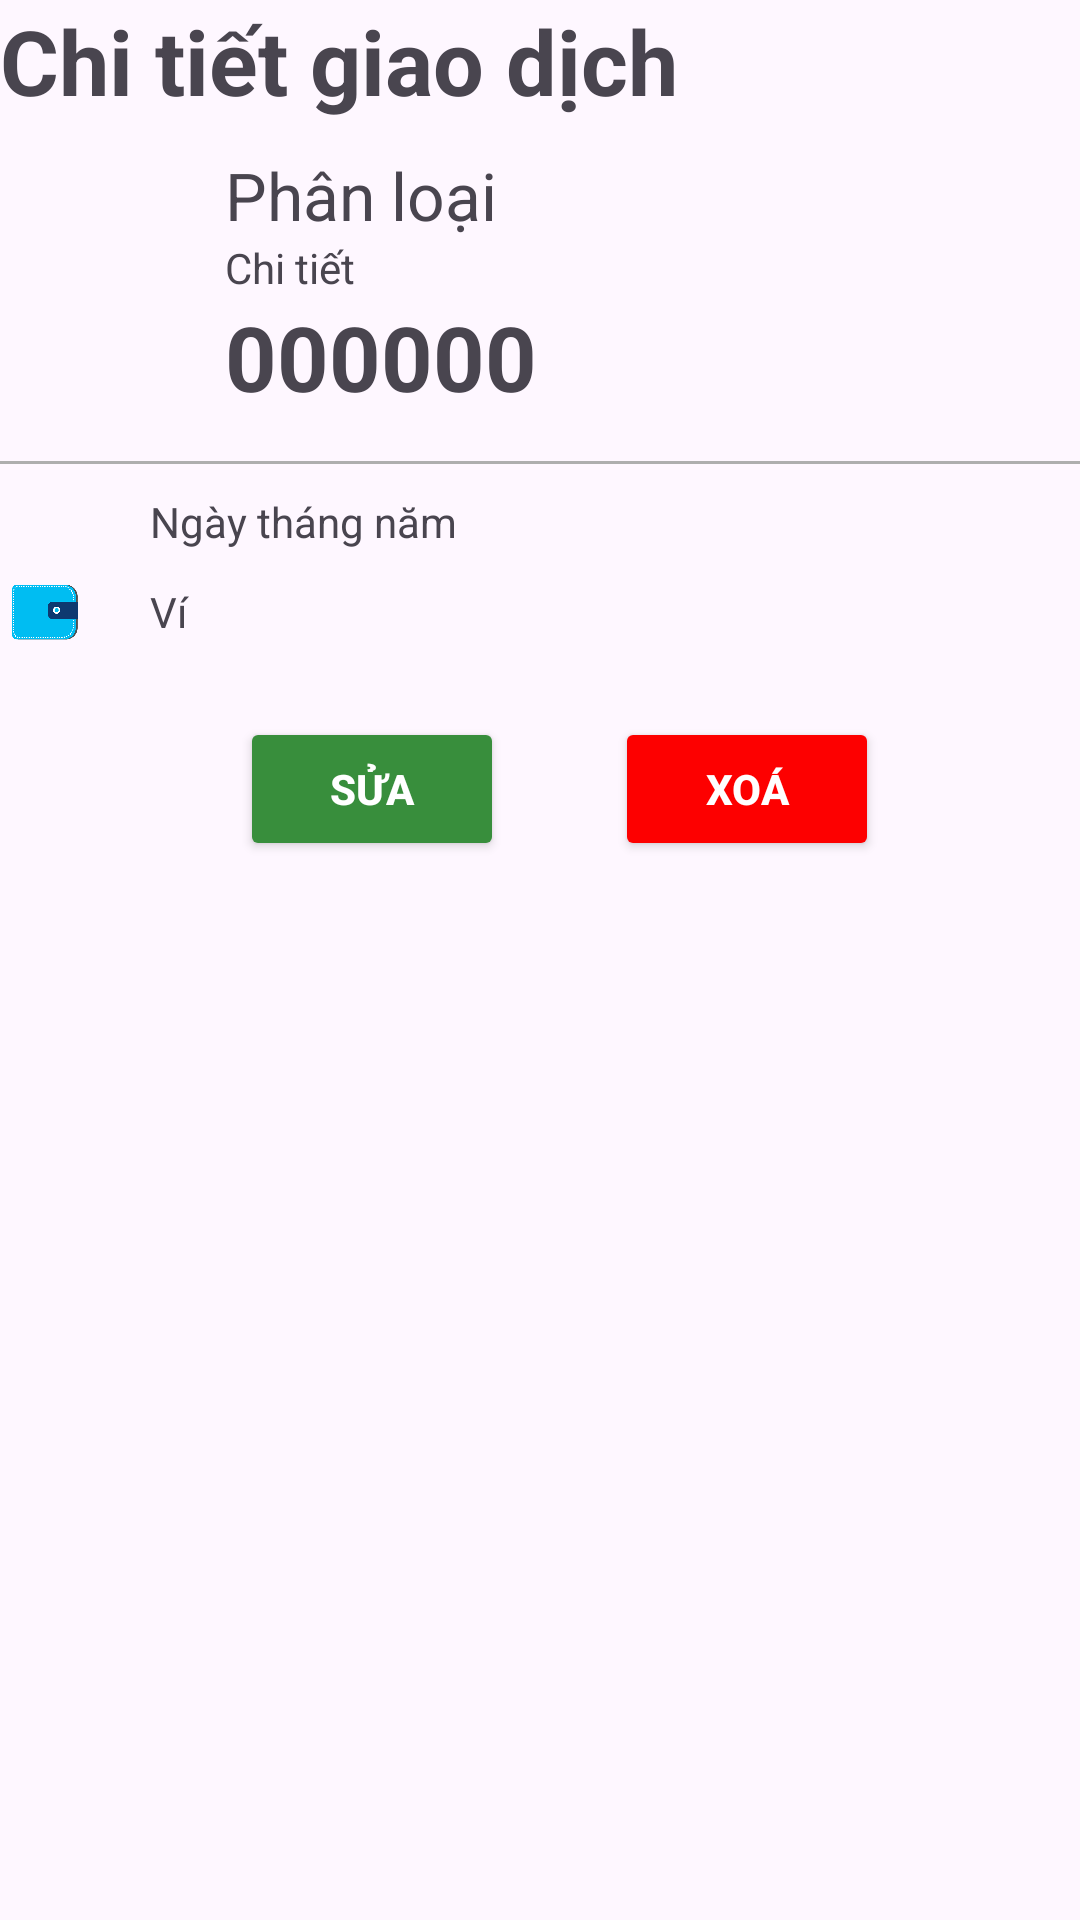

Named icons in this screenshot (1080*1920) and their bounding boxes, (x1, y1, x2, y2):
wallet: (12, 585, 78, 640)
